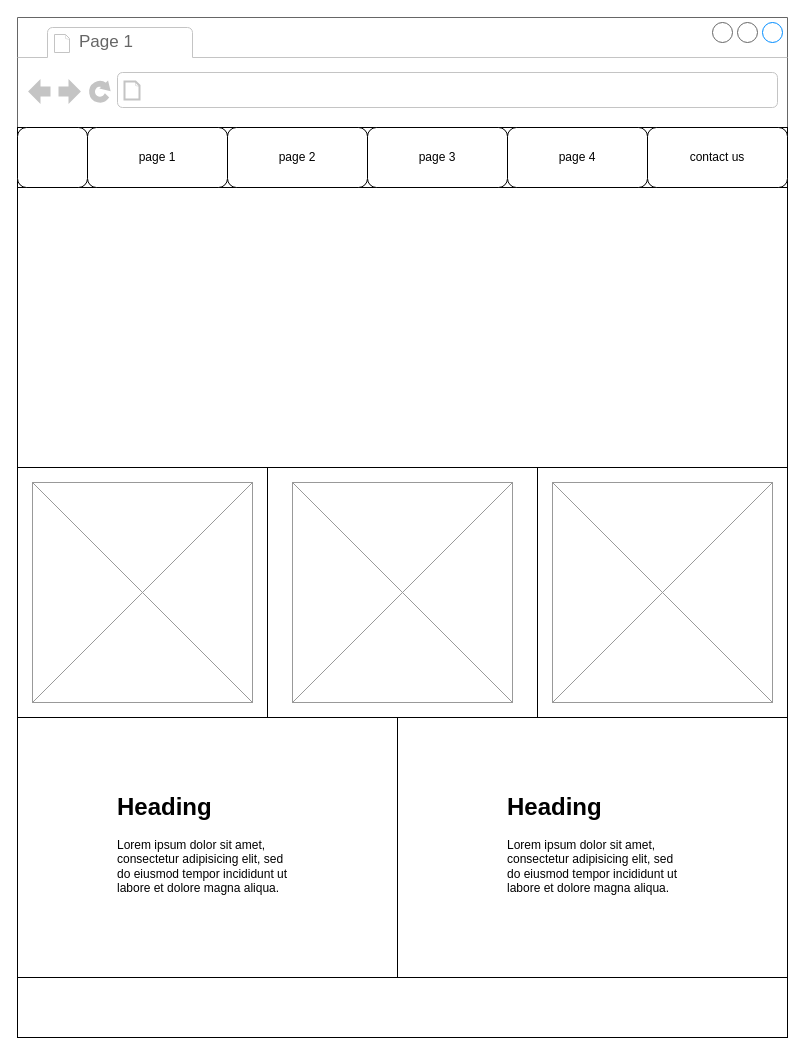
Some shapes in this 805 by 1055 pixel diagram are drawn without their labels. Here are the shapes that lost their labels. From the top down, the box of each, then its label:
(146, 76, 398, 104): https://www.draw.io
(16, 126, 88, 188): home
(16, 186, 788, 468): banner
(16, 976, 788, 1038): footer
